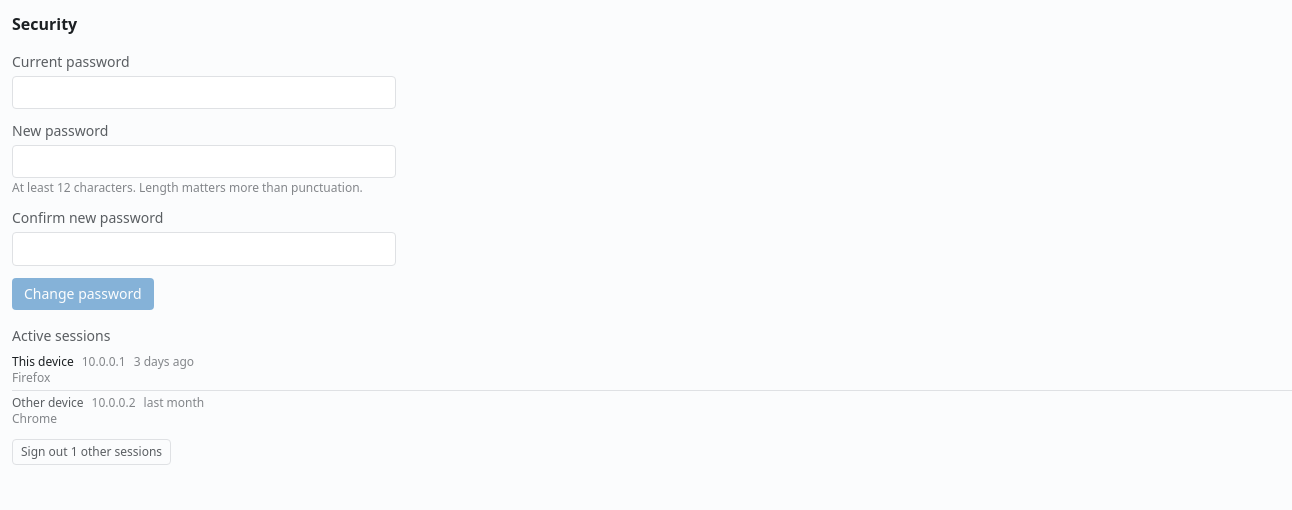
Scenario: SecurityPanel › says how many other sessions the change signed out
The width and height of the screenshot is (1292, 510).
Type "old-long-password" into the password field labelled "Current password". click: (204, 93)
box: [12,76,396,109]
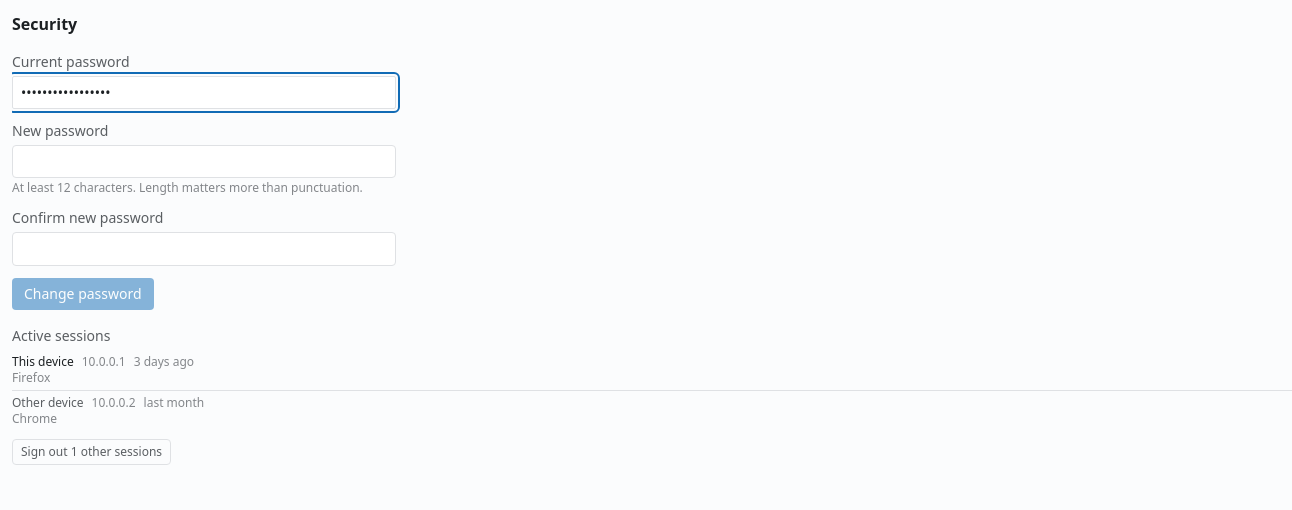
Type "a-new-long-password" into the password field labelled "New password". click: (204, 162)
box: [12,145,396,178]
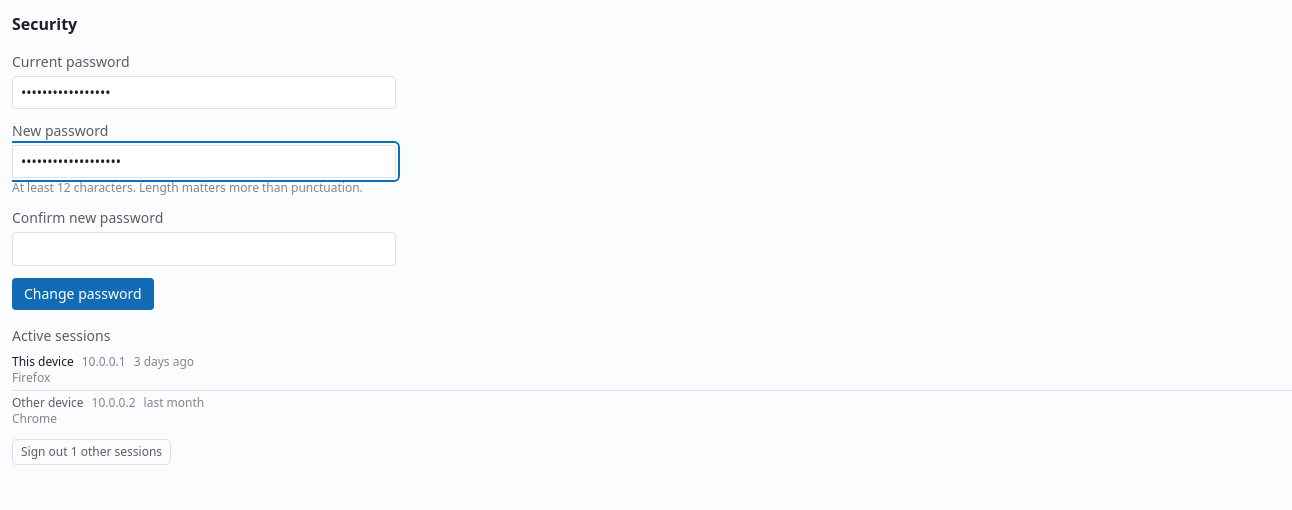
Type "a-new-long-password" into the password field labelled "Confirm new password". click: (204, 249)
box: [12,232,396,266]
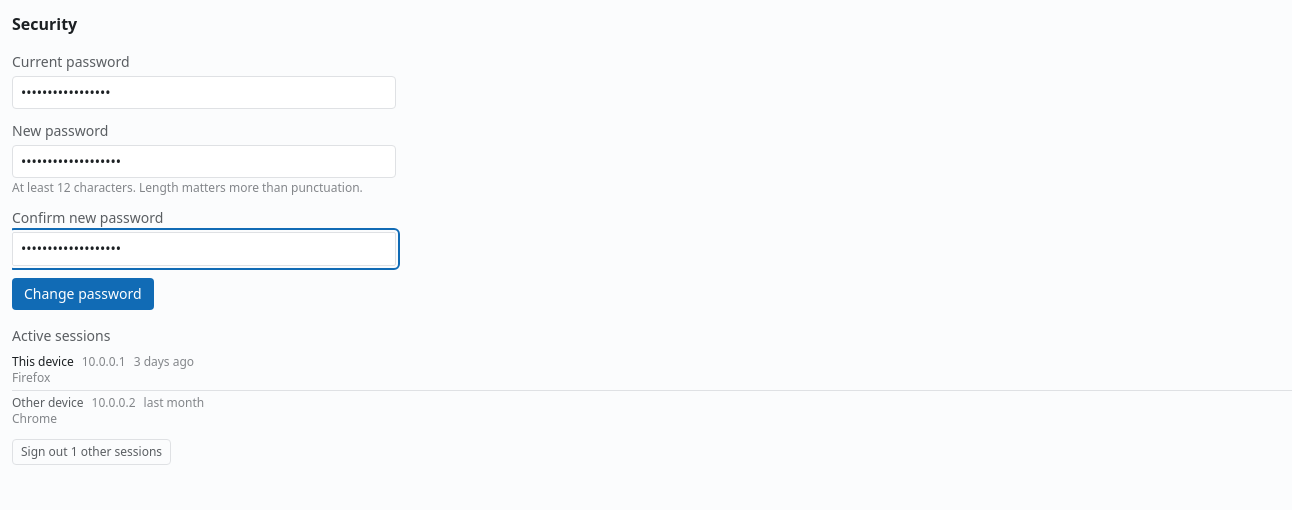
Click the button "Change password". click: (83, 294)
box: [12,278,154,310]
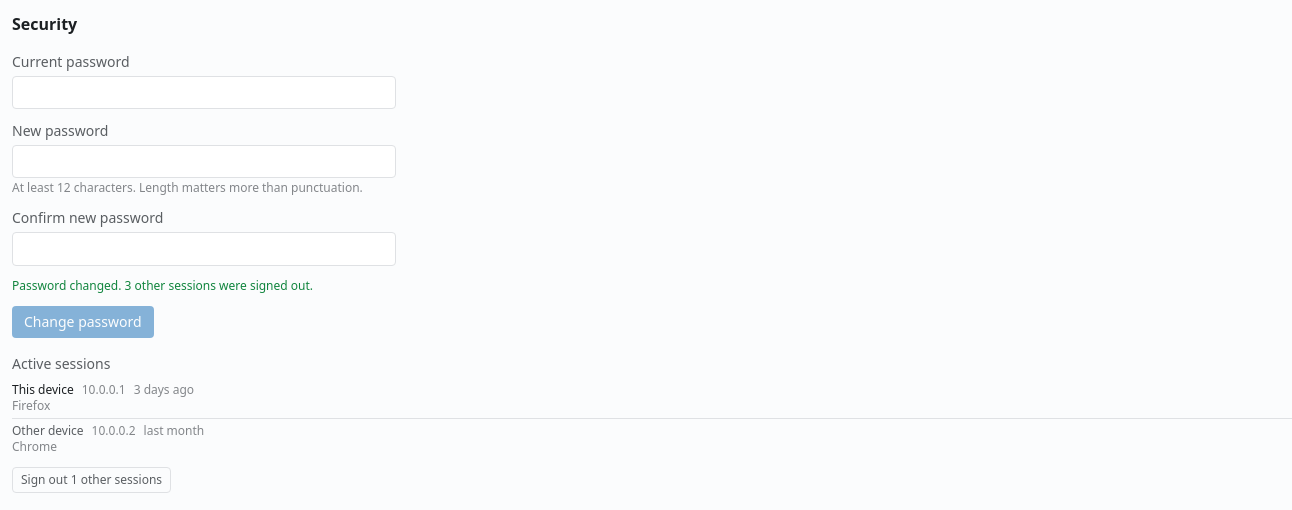
Now the message shows "3", box [12,277,313,294]
